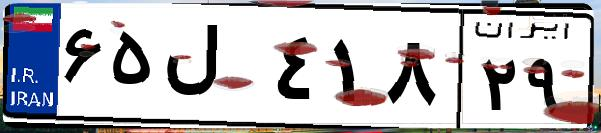1: (330, 28, 385, 110)
2: (475, 38, 525, 113)
4: (270, 28, 330, 110)
5: (110, 28, 158, 98)
6: (57, 26, 110, 100)
8: (385, 28, 445, 110)
9: (525, 38, 570, 115)
ل: (158, 20, 270, 120)
